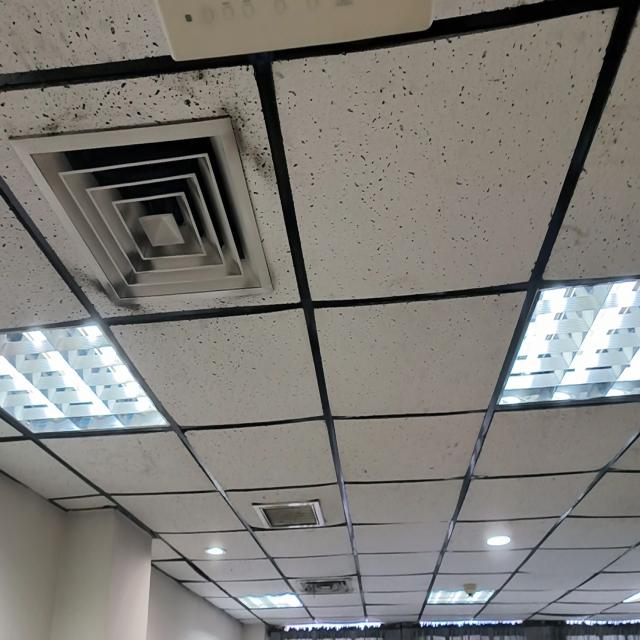Light: (0, 322, 168, 434), (497, 279, 640, 405), (427, 584, 494, 604), (238, 591, 303, 609), (486, 535, 511, 548), (622, 591, 640, 603), (205, 546, 225, 556)
